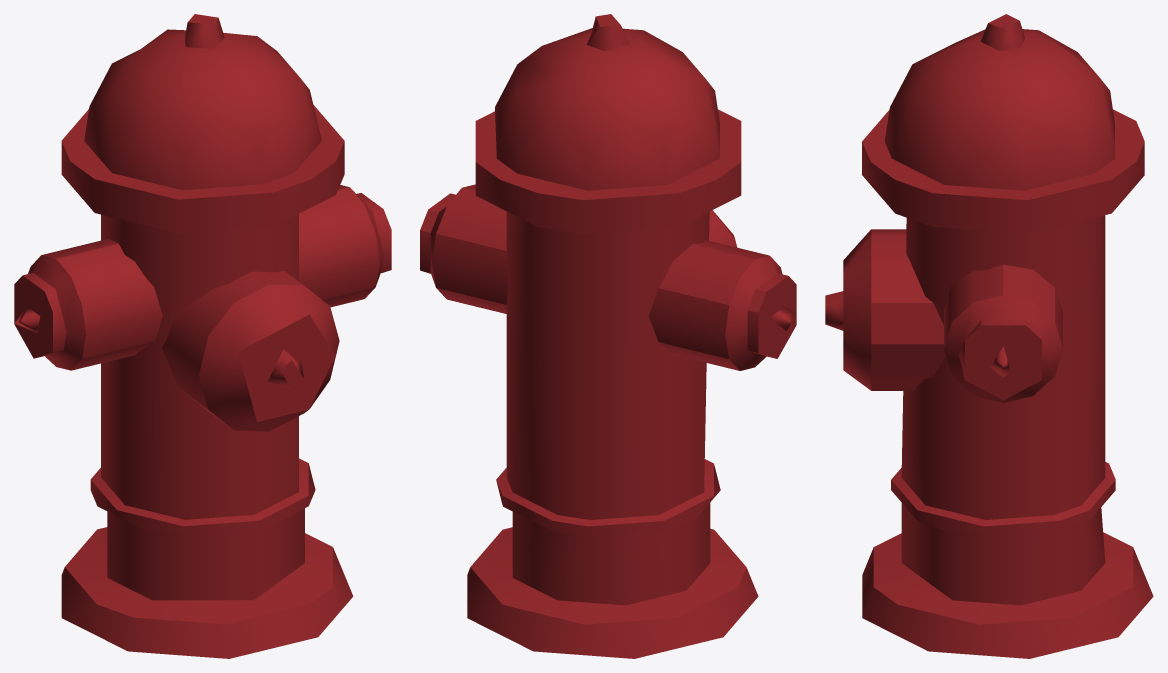
File: cc0-fire-hydrant-lod1.glb
The picture shows the model from 3 angles, left to right: view 1: azimuth 30°, elevation 25°; view 2: azimuth 150°, elevation 25°; view 3: azimuth 270°, elevation 25°; orthographic projection.
Visible parts, largest first — view 1: part_0; view 2: part_0; view 3: part_0.
Boxes of the visible parts, x1,y1,x2,y2 form: part_0: (14,14,391,658); part_0: (420,14,796,658); part_0: (825,14,1153,658).
Size of the model in its own units: 0.5151 by 0.7724 by 0.3992.
Materials: 1 (1 with a texture image).
